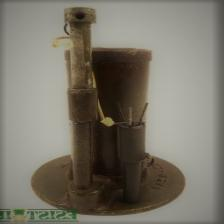M2A1: (9, 1, 213, 210)
